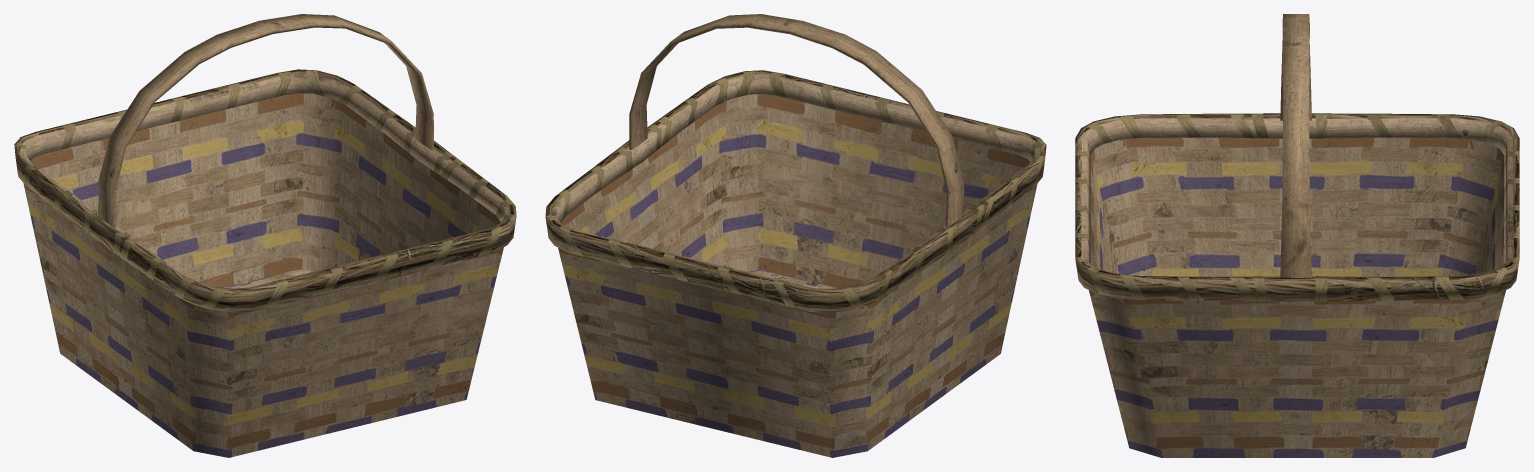
The model's file is obj_ash_basket_ba7057.glb.
The picture shows the model from 3 angles, left to right: view 1: azimuth 30°, elevation 25°; view 2: azimuth 150°, elevation 25°; view 3: azimuth 270°, elevation 25°; orthographic projection. The views are drawn at different scales.
Visible parts, largest first — view 1: obj_ash_basket_ba7057; view 2: obj_ash_basket_ba7057; view 3: obj_ash_basket_ba7057.
Boxes of the visible parts, x1,y1,x2,y2 form: obj_ash_basket_ba7057: [14, 14, 516, 457]; obj_ash_basket_ba7057: [545, 14, 1046, 457]; obj_ash_basket_ba7057: [1075, 14, 1519, 457].
Bounding box in the file's own units: 0.611 × 0.6 × 0.6887.
1 material, 1 textured.
